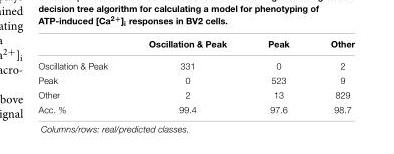table: (37, 37, 354, 114)
table column: (127, 37, 246, 114), (37, 37, 127, 114), (246, 37, 309, 114), (309, 37, 354, 114)
table column header: (37, 37, 354, 54)
table row: (37, 54, 354, 72), (37, 37, 354, 54), (37, 86, 354, 101), (37, 72, 354, 86), (37, 101, 354, 114)
